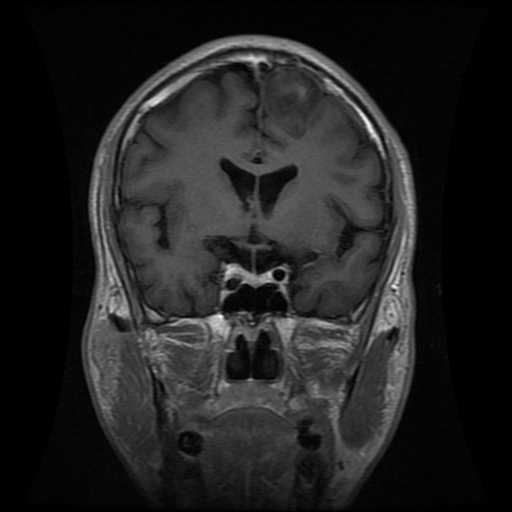glioma: (259, 66, 325, 137)
